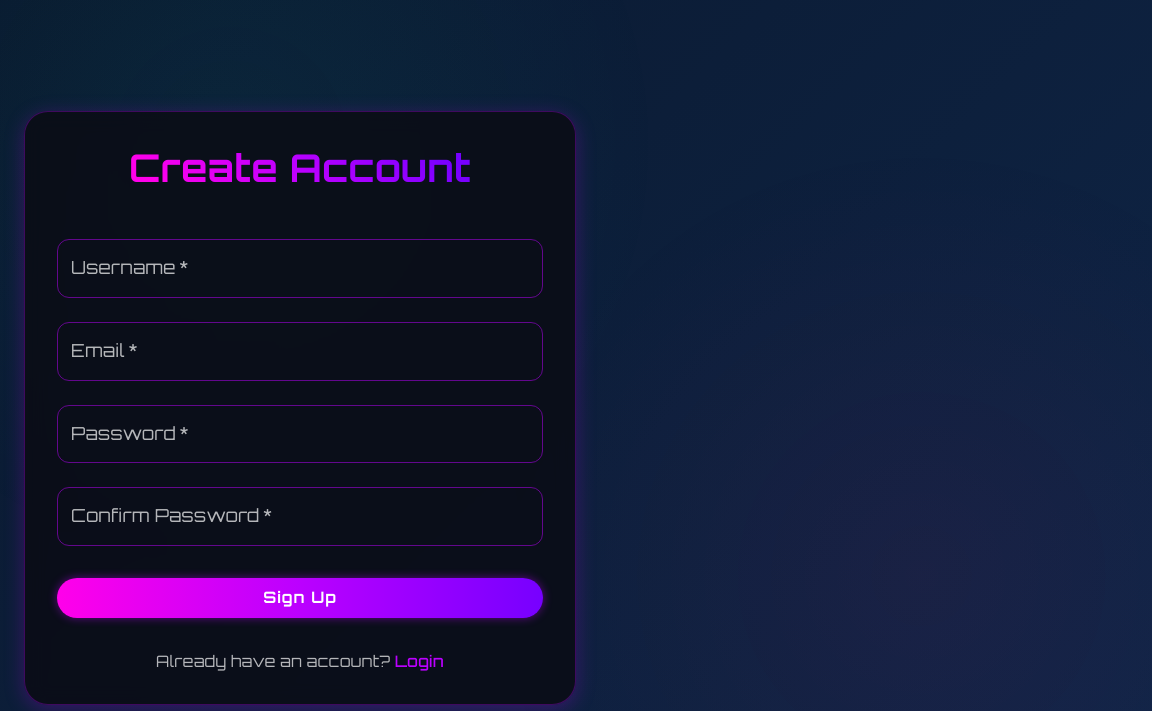
Test: Register Component › handles registration error
Type "existinguser" into the field labelled "Username *".
click(300, 268); type("existinguser")  # box [57, 239, 543, 298]
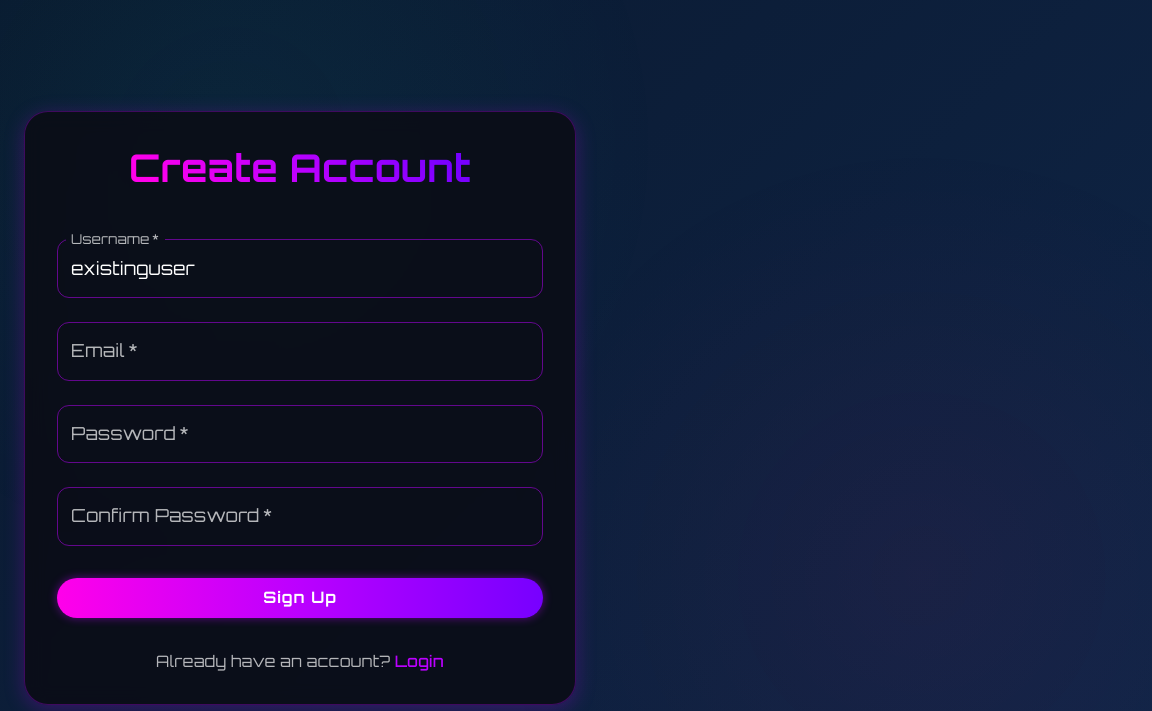
Type "test@example.com" into the field labelled "Email *".
click(300, 351); type("test@example.com")  # box [57, 322, 543, 381]
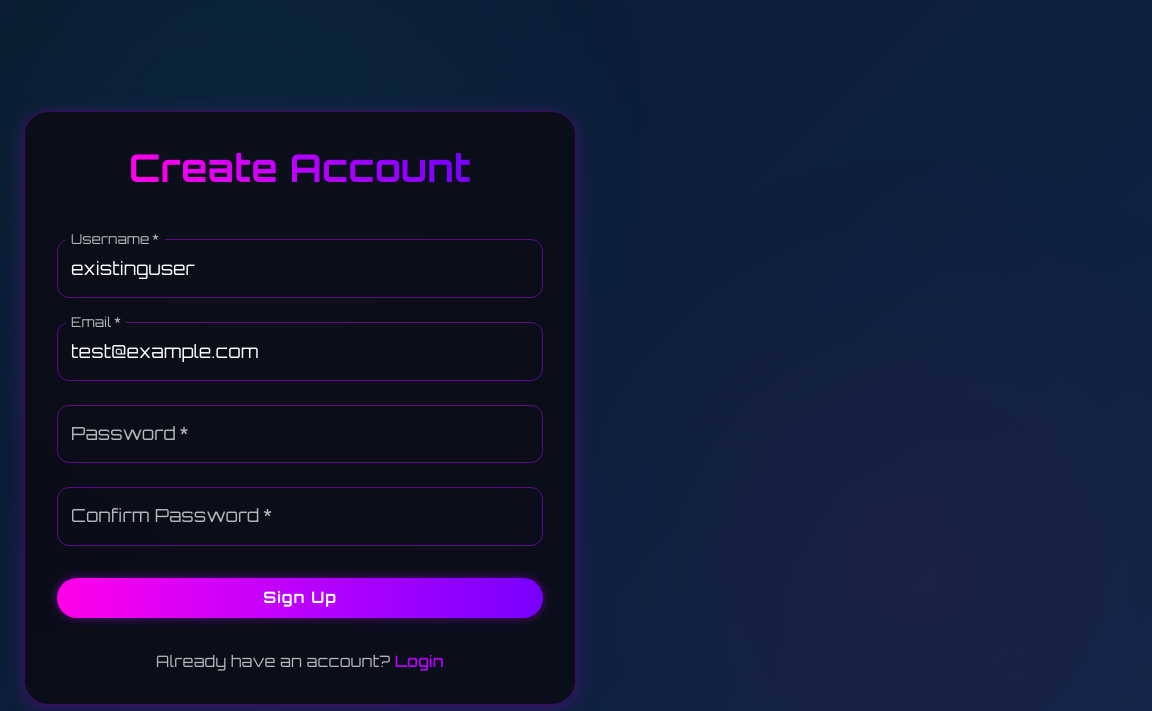
Type "password123" into the password field labelled "Password *".
click(300, 434); type("password123")  # box [57, 405, 543, 464]
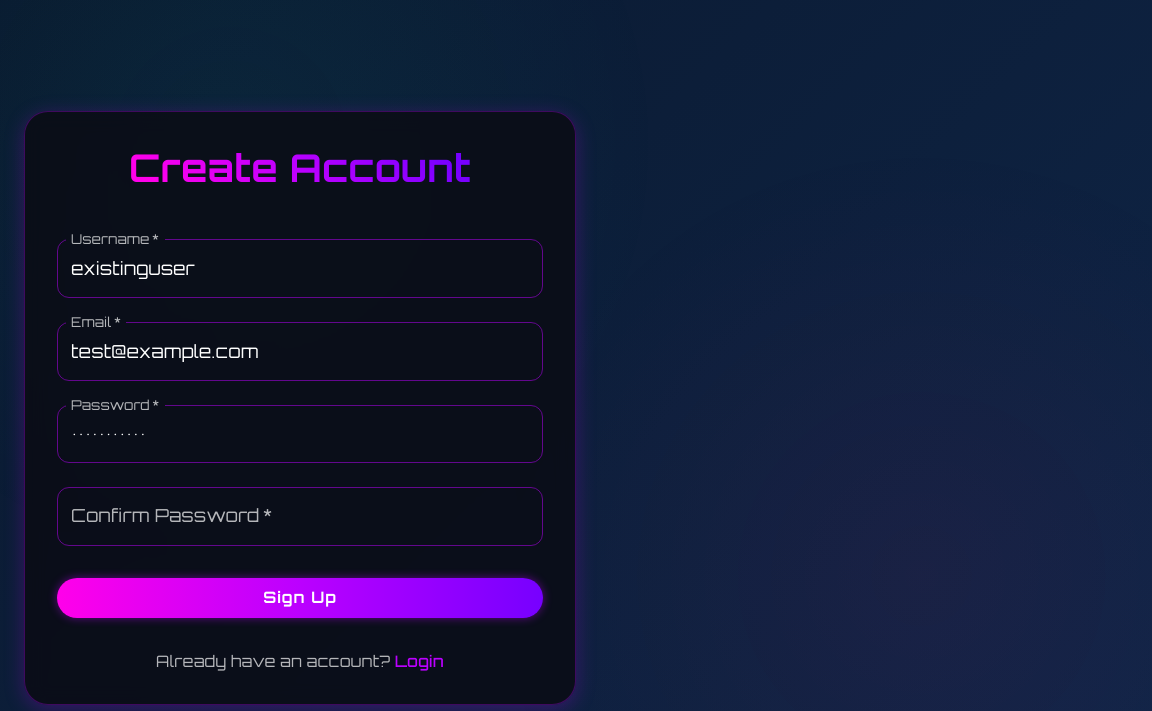
Type "password123" into the password field labelled "Confirm Password *".
click(300, 517); type("password123")  # box [57, 488, 543, 546]
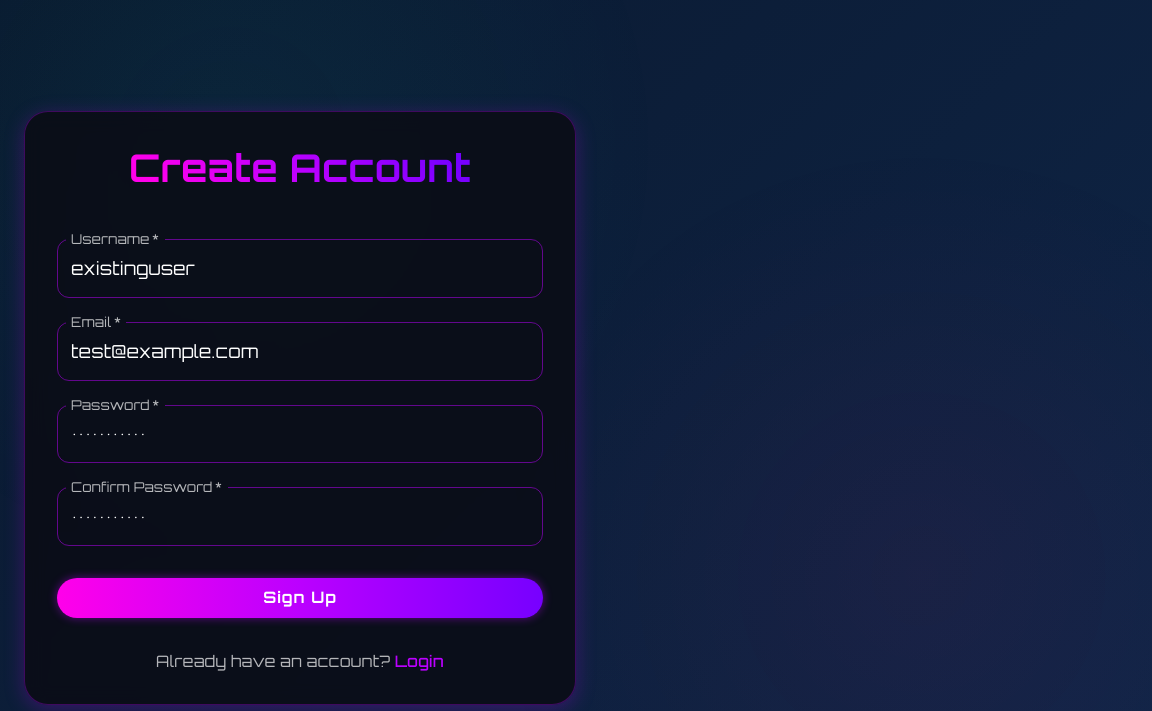
Click the button "Sign Up".
click(300, 598)  # box [57, 578, 543, 618]
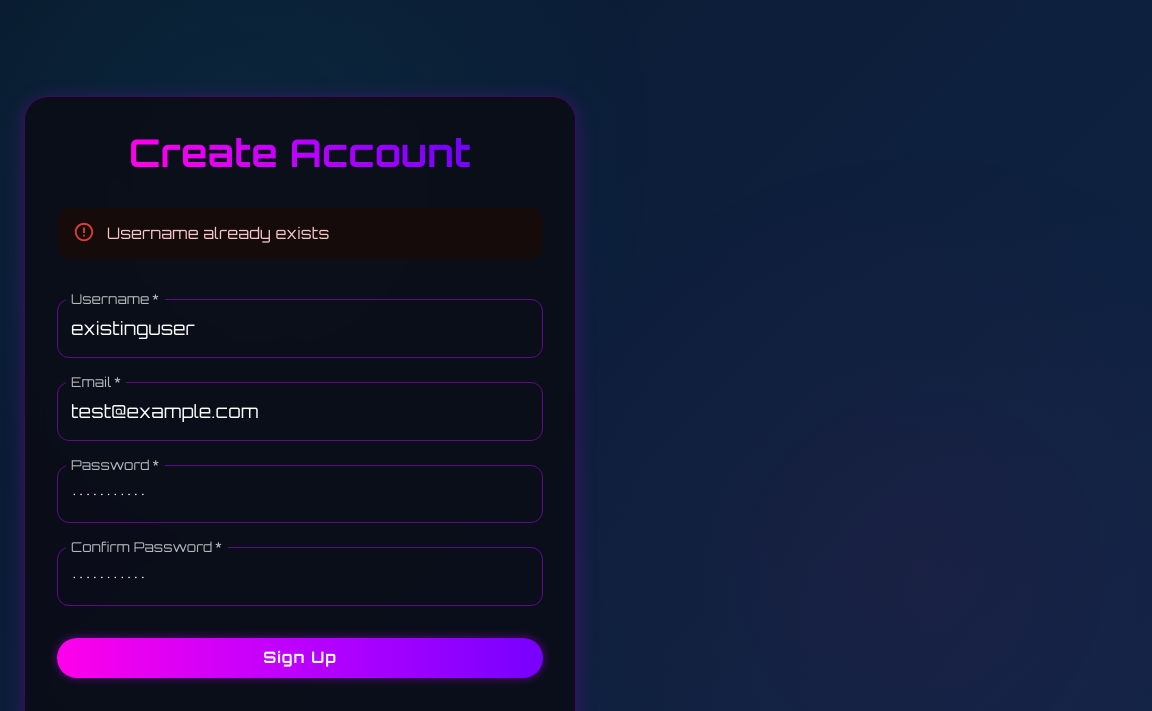
Expected: the text "Username already exists" is shown, [107, 223, 329, 243]
